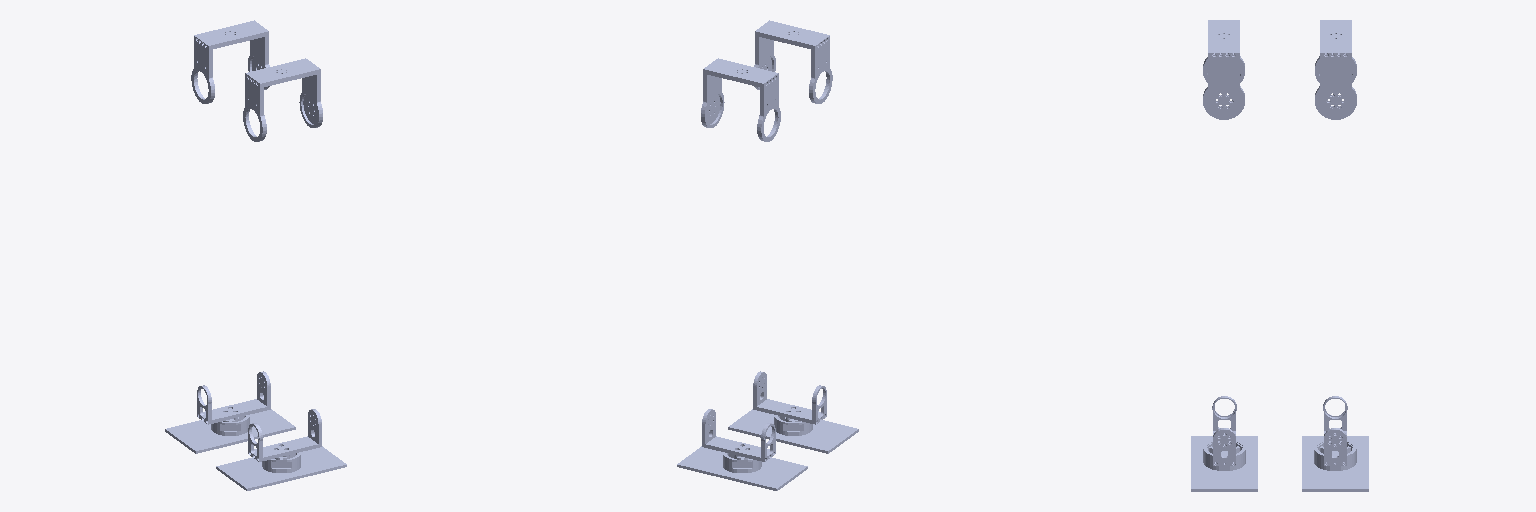
URDF robot description (rok3_model):
<?xml version="1.0" encoding="utf-8"?>
<!-- This URDF was automatically created by SolidWorks to URDF Exporter! Originally created by [author] ([email redacted])
     Commit Version: 1.6.0-4-g7f85cfe  Build Version: 1.6.7995.38578
     For more information, please see http://wiki.ros.org/sw_urdf_exporter -->
<robot
  name="rok3_model">
  <link
    name="base_link">
    <inertial>
      <origin
        xyz="-0.01254 6E-05 0.00234"
        rpy="0 0 0" />
      <mass
        value="6.6463" />
      <inertia
        ixx="0.04485"
        ixy="-4E-05"
        ixz="-0.00017"
        iyy="0.01106"
        iyz="0"
        izz="0.04957" />
    </inertial>
    <visual>
      <origin
        xyz="0 0 0"
        rpy="0 0 0" />
      <geometry>
        <mesh
          filename="package://rok3_model/meshes/base_link.STL" />
      </geometry>
      <material
        name="">
        <color
          rgba="0.79216 0.81961 0.93333 1" />
      </material>
    </visual>
    <collision>
      <origin
        xyz="0 0 0"
        rpy="0 0 0" />
      <geometry>
        <mesh
          filename="package://rok3_model/meshes/base_link.STL" />
      </geometry>
    </collision>
  </link>
  <link
    name="Upper_body_link">
    <inertial>
      <origin
        xyz="0.02709 0.00011 0.21468"
        rpy="0 0 0" />
      <mass
        value="6.32298" />
      <inertia
        ixx="0.09866"
        ixy="-0.00042"
        ixz="-0.00059"
        iyy="0.08492"
        iyz="-3E-05"
        izz="0.08634" />
    </inertial>
    <visual>
      <origin
        xyz="0 0 0"
        rpy="0 0 0" />
      <geometry>
        <mesh
          filename="package://rok3_model/meshes/Upper_body_link.STL" />
      </geometry>
      <material
        name="">
        <color
          rgba="0.89804 0.91765 0.92941 1" />
      </material>
    </visual>
    <collision>
      <origin
        xyz="0 0 0"
        rpy="0 0 0" />
      <geometry>
        <mesh
          filename="package://rok3_model/meshes/Upper_body_link.STL" />
      </geometry>
    </collision>
  </link>
  <joint
    name="Torso_yaw_joint"
    type="revolute">
    <origin
      xyz="-0.0305 0 0"
      rpy="0 0 0" />
    <parent
      link="base_link" />
    <child
      link="Upper_body_link" />
    <axis
      xyz="0 0 1" />
    <limit
      lower="0"
      upper="0"
      effort="0"
      velocity="0" />
  </joint>
  <link
    name="L_Hip_yaw_link">
    <inertial>
      <origin
        xyz="0.00818 0 0.05977"
        rpy="0 0 0" />
      <mass
        value="0.52735" />
      <inertia
        ixx="0.00108"
        ixy="0"
        ixz="-0.00016"
        iyy="0.0026"
        iyz="0"
        izz="0.00191" />
    </inertial>
    <visual>
      <origin
        xyz="0 0 0"
        rpy="0 0 0" />
      <geometry>
        <mesh
          filename="package://rok3_model/meshes/L_Hip_yaw_link.STL" />
      </geometry>
      <material
        name="">
        <color
          rgba="0.79216 0.81961 0.93333 1" />
      </material>
    </visual>
    <collision>
      <origin
        xyz="0 0 0"
        rpy="0 0 0" />
      <geometry>
        <mesh
          filename="package://rok3_model/meshes/L_Hip_yaw_link.STL" />
      </geometry>
    </collision>
  </link>
  <joint
    name="L_Hip_yaw_joint"
    type="revolute">
    <origin
      xyz="0 0.105 -0.1512"
      rpy="0 0 0" />
    <parent
      link="base_link" />
    <child
      link="L_Hip_yaw_link" />
    <axis
      xyz="0 0 1" />
    <limit
      lower="0"
      upper="0"
      effort="0"
      velocity="0" />
  </joint>
  <link
    name="L_Hip_roll_pitch_link">
    <inertial>
      <origin
        xyz="0.00202 0.0112 -2E-05"
        rpy="0 0 0" />
      <mass
        value="3.9265" />
      <inertia
        ixx="0.00672"
        ixy="-8E-05"
        ixz="0"
        iyy="0.00713"
        iyz="0"
        izz="0.00792" />
    </inertial>
    <visual>
      <origin
        xyz="0 0 0"
        rpy="0 0 0" />
      <geometry>
        <mesh
          filename="package://rok3_model/meshes/L_Hip_roll_pitch_link.STL" />
      </geometry>
      <material
        name="">
        <color
          rgba="0.79216 0.81961 0.93333 1" />
      </material>
    </visual>
    <collision>
      <origin
        xyz="0 0 0"
        rpy="0 0 0" />
      <geometry>
        <mesh
          filename="package://rok3_model/meshes/L_Hip_roll_pitch_link.STL" />
      </geometry>
    </collision>
  </link>
  <joint
    name="L_Hip_roll_joint"
    type="revolute">
    <origin
      xyz="0 0 0"
      rpy="0 0 0" />
    <parent
      link="L_Hip_yaw_link" />
    <child
      link="L_Hip_roll_pitch_link" />
    <axis
      xyz="1 0 0" />
    <limit
      lower="0"
      upper="0"
      effort="0"
      velocity="0" />
  </joint>
  <link
    name="L_Thigh_link">
    <inertial>
      <origin
        xyz="0.01373 0.0244 -0.22423"
        rpy="0 0 0" />
      <mass
        value="4.9728" />
      <inertia
        ixx="0.07468"
        ixy="-0.00086"
        ixz="0.00112"
        iyy="0.07322"
        iyz="-0.00522"
        izz="0.01579" />
    </inertial>
    <visual>
      <origin
        xyz="0 0 0"
        rpy="0 0 0" />
      <geometry>
        <mesh
          filename="package://rok3_model/meshes/L_Thigh_link.STL" />
      </geometry>
      <material
        name="">
        <color
          rgba="0.79216 0.81961 0.93333 1" />
      </material>
    </visual>
    <collision>
      <origin
        xyz="0 0 0"
        rpy="0 0 0" />
      <geometry>
        <mesh
          filename="package://rok3_model/meshes/L_Thigh_link.STL" />
      </geometry>
    </collision>
  </link>
  <joint
    name="L_Hip_pitch_joint"
    type="revolute">
    <origin
      xyz="0 0 0"
      rpy="0 0 0" />
    <parent
      link="L_Hip_roll_pitch_link" />
    <child
      link="L_Thigh_link" />
    <axis
      xyz="0 1 0" />
    <limit
      lower="0"
      upper="0"
      effort="0"
      velocity="0" />
  </joint>
  <link
    name="L_Calf_link">
    <inertial>
      <origin
        xyz="0.01497 0.01278 -0.18288"
        rpy="0 0 0" />
      <mass
        value="3.378" />
      <inertia
        ixx="0.05941"
        ixy="-0.00011"
        ixz="0.00077"
        iyy="0.05717"
        iyz="-0.00764"
        izz="0.00957" />
    </inertial>
    <visual>
      <origin
        xyz="0 0 0"
        rpy="0 0 0" />
      <geometry>
        <mesh
          filename="package://rok3_model/meshes/L_Calf_link.STL" />
      </geometry>
      <material
        name="">
        <color
          rgba="0.79216 0.81961 0.93333 1" />
      </material>
    </visual>
    <collision>
      <origin
        xyz="0 0 0"
        rpy="0 0 0" />
      <geometry>
        <mesh
          filename="package://rok3_model/meshes/L_Calf_link.STL" />
      </geometry>
    </collision>
  </link>
  <joint
    name="L_Knee_joint"
    type="revolute">
    <origin
      xyz="0 0 -0.35"
      rpy="0 0 0" />
    <parent
      link="L_Thigh_link" />
    <child
      link="L_Calf_link" />
    <axis
      xyz="0 1 0" />
    <limit
      lower="0"
      upper="0"
      effort="0"
      velocity="0" />
  </joint>
  <link
    name="L_Ankle_pitch_link">
    <inertial>
      <origin
        xyz="0.00395 -0.00242 0.00855"
        rpy="0 0 0" />
      <mass
        value="1.5671" />
      <inertia
        ixx="0.00177"
        ixy="2E-05"
        ixz="-0.00014"
        iyy="0.00348"
        iyz="3E-05"
        izz="0.00286" />
    </inertial>
    <visual>
      <origin
        xyz="0 0 0"
        rpy="0 0 0" />
      <geometry>
        <mesh
          filename="package://rok3_model/meshes/L_Ankle_pitch_link.STL" />
      </geometry>
      <material
        name="">
        <color
          rgba="0.79216 0.81961 0.93333 1" />
      </material>
    </visual>
    <collision>
      <origin
        xyz="0 0 0"
        rpy="0 0 0" />
      <geometry>
        <mesh
          filename="package://rok3_model/meshes/L_Ankle_pitch_link.STL" />
      </geometry>
    </collision>
  </link>
  <joint
    name="L_Ankle_pitch_joint"
    type="revolute">
    <origin
      xyz="0 -0.001 -0.35"
      rpy="0 0 0" />
    <parent
      link="L_Calf_link" />
    <child
      link="L_Ankle_pitch_link" />
    <axis
      xyz="0 1 0" />
    <limit
      lower="0"
      upper="0"
      effort="0"
      velocity="0" />
  </joint>
  <link
    name="L_Ankle_roll_link">
    <inertial>
      <origin
        xyz="0.01905 0 -0.03706"
        rpy="0 0 0" />
      <mass
        value="0.2033" />
      <inertia
        ixx="0.00011"
        ixy="0"
        ixz="6E-05"
        iyy="0.00063"
        iyz="0"
        izz="0.00059" />
    </inertial>
    <visual>
      <origin
        xyz="0 0 0"
        rpy="0 0 0" />
      <geometry>
        <mesh
          filename="package://rok3_model/meshes/L_Ankle_roll_link.STL" />
      </geometry>
      <material
        name="">
        <color
          rgba="0.79216 0.81961 0.93333 1" />
      </material>
    </visual>
    <collision>
      <origin
        xyz="0 0 0"
        rpy="0 0 0" />
      <geometry>
        <mesh
          filename="package://rok3_model/meshes/L_Ankle_roll_link.STL" />
      </geometry>
    </collision>
  </link>
  <joint
    name="L_Ankle_roll_joint"
    type="revolute">
    <origin
      xyz="0 0 0"
      rpy="0 0 0" />
    <parent
      link="L_Ankle_pitch_link" />
    <child
      link="L_Ankle_roll_link" />
    <axis
      xyz="1 0 0" />
    <limit
      lower="0"
      upper="0"
      effort="0"
      velocity="0" />
  </joint>
  <link
    name="L_Foot">
    <inertial>
      <origin
        xyz="0 0 0.00861"
        rpy="0 0 0" />
      <mass
        value="0.92659" />
      <inertia
        ixx="0.00107"
        ixy="0"
        ixz="0"
        iyy="0.00323"
        iyz="0"
        izz="0.00412" />
    </inertial>
    <visual>
      <origin
        xyz="0 0 0"
        rpy="0 0 0" />
      <geometry>
        <mesh
          filename="package://rok3_model/meshes/L_Foot.STL" />
      </geometry>
      <material
        name="">
        <color
          rgba="0.79216 0.81961 0.93333 1" />
      </material>
    </visual>
    <collision>
      <origin
        xyz="0 0 0"
        rpy="0 0 0" />
      <geometry>
        <mesh
          filename="package://rok3_model/meshes/L_Foot.STL" />
      </geometry>
    </collision>
  </link>
  <joint
    name="L_Foot_joint"
    type="fixed">
    <origin
      xyz="0 0 -0.09"
      rpy="0 0 0" />
    <parent
      link="L_Ankle_roll_link" />
    <child
      link="L_Foot" />
    <axis
      xyz="0 0 0" />
  </joint>
  <link
    name="R_Hip_yaw_link">
    <inertial>
      <origin
        xyz="0.00818 0 0.05977"
        rpy="0 0 0" />
      <mass
        value="0.52735" />
      <inertia
        ixx="0.00108"
        ixy="0"
        ixz="-0.00016"
        iyy="0.0026"
        iyz="0"
        izz="0.00191" />
    </inertial>
    <visual>
      <origin
        xyz="0 0 0"
        rpy="0 0 0" />
      <geometry>
        <mesh
          filename="package://rok3_model/meshes/R_Hip_yaw_link.STL" />
      </geometry>
      <material
        name="">
        <color
          rgba="0.79216 0.81961 0.93333 1" />
      </material>
    </visual>
    <collision>
      <origin
        xyz="0 0 0"
        rpy="0 0 0" />
      <geometry>
        <mesh
          filename="package://rok3_model/meshes/R_Hip_yaw_link.STL" />
      </geometry>
    </collision>
  </link>
  <joint
    name="R_Hip_yaw_joint"
    type="revolute">
    <origin
      xyz="0 -0.105 -0.1512"
      rpy="0 0 0" />
    <parent
      link="base_link" />
    <child
      link="R_Hip_yaw_link" />
    <axis
      xyz="0 0 1" />
    <limit
      lower="0"
      upper="0"
      effort="0"
      velocity="0" />
  </joint>
  <link
    name="R_Hip_roll_pitch_link">
    <inertial>
      <origin
        xyz="0.00202 -0.0112 -2E-05"
        rpy="0 0 0" />
      <mass
        value="3.9265" />
      <inertia
        ixx="0.00672"
        ixy="8E-05"
        ixz="0"
        iyy="0.00713"
        iyz="0"
        izz="0.00792" />
    </inertial>
    <visual>
      <origin
        xyz="0 0 0"
        rpy="0 0 0" />
      <geometry>
        <mesh
          filename="package://rok3_model/meshes/R_Hip_roll_pitch_link.STL" />
      </geometry>
      <material
        name="">
        <color
          rgba="0.79216 0.81961 0.93333 1" />
      </material>
    </visual>
    <collision>
      <origin
        xyz="0 0 0"
        rpy="0 0 0" />
      <geometry>
        <mesh
          filename="package://rok3_model/meshes/R_Hip_roll_pitch_link.STL" />
      </geometry>
    </collision>
  </link>
  <joint
    name="R_Hip_roll_joint"
    type="revolute">
    <origin
      xyz="0 0 0"
      rpy="0 0 0" />
    <parent
      link="R_Hip_yaw_link" />
    <child
      link="R_Hip_roll_pitch_link" />
    <axis
      xyz="1 0 0" />
    <limit
      lower="0"
      upper="0"
      effort="0"
      velocity="0" />
  </joint>
  <link
    name="R_Thigh_link">
    <inertial>
      <origin
        xyz="0.01373 -0.0244 -0.22423"
        rpy="0 0 0" />
      <mass
        value="4.9728" />
      <inertia
        ixx="0.07468"
        ixy="0.00086"
        ixz="0.00112"
        iyy="0.07322"
        iyz="0.00522"
        izz="0.01579" />
    </inertial>
    <visual>
      <origin
        xyz="0 0 0"
        rpy="0 0 0" />
      <geometry>
        <mesh
          filename="package://rok3_modelr/meshes/R_Thigh_link.STL" />
      </geometry>
      <material
        name="">
        <color
          rgba="0.79216 0.81961 0.93333 1" />
      </material>
    </visual>
    <collision>
      <origin
        xyz="0 0 0"
        rpy="0 0 0" />
      <geometry>
        <mesh
          filename="package://rok3_model/meshes/R_Thigh_link.STL" />
      </geometry>
    </collision>
  </link>
  <joint
    name="R_Hip_pitch_joint"
    type="revolute">
    <origin
      xyz="0 0 0"
      rpy="0 0 0" />
    <parent
      link="R_Hip_roll_pitch_link" />
    <child
      link="R_Thigh_link" />
    <axis
      xyz="0 1 0" />
    <limit
      lower="0"
      upper="0"
      effort="0"
      velocity="0" />
  </joint>
  <link
    name="R_Calf_link">
    <inertial>
      <origin
        xyz="0.01497 -0.01278 -0.18288"
        rpy="0 0 0" />
      <mass
        value="3.378" />
      <inertia
        ixx="0.05941"
        ixy="0.00011"
        ixz="0.00077"
        iyy="0.05717"
        iyz="0.00764"
        izz="0.00957" />
    </inertial>
    <visual>
      <origin
        xyz="0 0 0"
        rpy="0 0 0" />
      <geometry>
        <mesh
          filename="package://rok3_model/meshes/R_Calf_link.STL" />
      </geometry>
      <material
        name="">
        <color
          rgba="0.79216 0.81961 0.93333 1" />
      </material>
    </visual>
    <collision>
      <origin
        xyz="0 0 0"
        rpy="0 0 0" />
      <geometry>
        <mesh
          filename="package://rok3_model/meshes/R_Calf_link.STL" />
      </geometry>
    </collision>
  </link>
  <joint
    name="R_Knee_joint"
    type="revolute">
    <origin
      xyz="0 0 -0.35"
      rpy="0 0 0" />
    <parent
      link="R_Thigh_link" />
    <child
      link="R_Calf_link" />
    <axis
      xyz="0 1 0" />
    <limit
      lower="0"
      upper="0"
      effort="0"
      velocity="0" />
  </joint>
  <link
    name="R_Ankle_pitch_link">
    <inertial>
      <origin
        xyz="0.00395 0.00242 0.00855"
        rpy="0 0 0" />
      <mass
        value="1.5671" />
      <inertia
        ixx="0.00177"
        ixy="-2E-05"
        ixz="-0.00014"
        iyy="0.00348"
        iyz="-3E-05"
        izz="0.00286" />
    </inertial>
    <visual>
      <origin
        xyz="0 0 0"
        rpy="0 0 0" />
      <geometry>
        <mesh
          filename="package://rok3_model/meshes/R_Ankle_pitch_link.STL" />
      </geometry>
      <material
        name="">
        <color
          rgba="0.79216 0.81961 0.93333 1" />
      </material>
    </visual>
    <collision>
      <origin
        xyz="0 0 0"
        rpy="0 0 0" />
      <geometry>
        <mesh
          filename="package://rok3_model/meshes/R_Ankle_pitch_link.STL" />
      </geometry>
    </collision>
  </link>
  <joint
    name="R_Ankle_pitch_joint"
    type="revolute">
    <origin
      xyz="0 0.001 -0.35"
      rpy="0 0 0" />
    <parent
      link="R_Calf_link" />
    <child
      link="R_Ankle_pitch_link" />
    <axis
      xyz="0 1 0" />
    <limit
      lower="0"
      upper="0"
      effort="0"
      velocity="0" />
  </joint>
  <link
    name="R_Ankle_roll_link">
    <inertial>
      <origin
        xyz="0.01905 0 -0.03706"
        rpy="0 0 0" />
      <mass
        value="0.20333" />
      <inertia
        ixx="0.00011"
        ixy="0"
        ixz="6E-05"
        iyy="0.00063"
        iyz="0"
        izz="0.00059" />
    </inertial>
    <visual>
      <origin
        xyz="0 0 0"
        rpy="0 0 0" />
      <geometry>
        <mesh
          filename="package://rok3_model/meshes/R_Ankle_roll_link.STL" />
      </geometry>
      <material
        name="">
        <color
          rgba="0.79216 0.81961 0.93333 1" />
      </material>
    </visual>
    <collision>
      <origin
        xyz="0 0 0"
        rpy="0 0 0" />
      <geometry>
        <mesh
          filename="package://rok3_model/meshes/R_Ankle_roll_link.STL" />
      </geometry>
    </collision>
  </link>
  <joint
    name="R_Ankle_roll_joint"
    type="revolute">
    <origin
      xyz="0 0 0"
      rpy="0 0 0" />
    <parent
      link="R_Ankle_pitch_link" />
    <child
      link="R_Ankle_roll_link" />
    <axis
      xyz="1 0 0" />
    <limit
      lower="0"
      upper="0"
      effort="0"
      velocity="0" />
  </joint>
  <link
    name="R_Foot">
    <inertial>
      <origin
        xyz="0 0 -0.00861"
        rpy="0 0 0" />
      <mass
        value="0.92659" />
      <inertia
        ixx="0.00107"
        ixy="0"
        ixz="0"
        iyy="0.00323"
        iyz="0"
        izz="0.00412" />
    </inertial>
    <visual>
      <origin
        xyz="0 0 0"
        rpy="0 0 0" />
      <geometry>
        <mesh
          filename="package://rok3_model/meshes/R_Foot.STL" />
      </geometry>
      <material
        name="">
        <color
          rgba="0.79216 0.81961 0.93333 1" />
      </material>
    </visual>
    <collision>
      <origin
        xyz="0 0 0"
        rpy="0 0 0" />
      <geometry>
        <mesh
          filename="package://rok3_model/meshes/R_Foot.STL" />
      </geometry>
    </collision>
  </link>
  <joint
    name="R_Foot_joint"
    type="fixed">
    <origin
      xyz="0 0 -0.09"
      rpy="0 0 0" />
    <parent
      link="R_Ankle_roll_link" />
    <child
      link="R_Foot" />
    <axis
      xyz="0 0 0" />
  </joint>
</robot>

--- What the picture shows (computed from the rendered views, not written in the file) ---
3 views of the same robot in one strip: view 1: azimuth 30°, elevation 25°; view 2: azimuth 150°, elevation 25°; view 3: azimuth 270°, elevation 25° (orthographic).
Robot: rok3_model — 16 links, 15 joints (13 revolute, 2 fixed); root link base_link; default pose: all joints at 0.
Links seen in each view (by area): view 1: R_Hip_yaw_link, R_Foot, L_Foot, L_Hip_yaw_link, L_Ankle_roll_link, R_Ankle_roll_link; view 2: L_Hip_yaw_link, L_Foot, R_Foot, R_Hip_yaw_link, R_Ankle_roll_link, L_Ankle_roll_link; view 3: L_Hip_yaw_link, R_Hip_yaw_link, L_Foot, R_Foot, L_Ankle_roll_link, R_Ankle_roll_link.
Boxes of the visible links, x1,y1,x2,y2 form: R_Hip_yaw_link: (243, 58, 322, 141); R_Foot: (216, 446, 346, 490); L_Foot: (165, 409, 295, 453); L_Hip_yaw_link: (191, 20, 269, 103); L_Ankle_roll_link: (197, 371, 270, 424); R_Ankle_roll_link: (248, 409, 321, 461); L_Hip_yaw_link: (701, 58, 780, 141); L_Foot: (677, 446, 807, 490); R_Foot: (728, 409, 858, 453); R_Hip_yaw_link: (754, 20, 832, 103); R_Ankle_roll_link: (753, 371, 826, 424); L_Ankle_roll_link: (702, 409, 775, 461); L_Hip_yaw_link: (1315, 20, 1356, 119); R_Hip_yaw_link: (1203, 20, 1244, 119); L_Foot: (1302, 436, 1368, 491); R_Foot: (1191, 436, 1257, 491); L_Ankle_roll_link: (1323, 396, 1347, 465); R_Ankle_roll_link: (1212, 396, 1236, 465).
Size in the robot's own frame: 0.235 by 0.333 by 0.89 metres.
Meshes: 16 distinct files referenced, 6 mesh visuals loaded (6 binary STL); not drawn: 10 (reference not matched to a file when rendering).